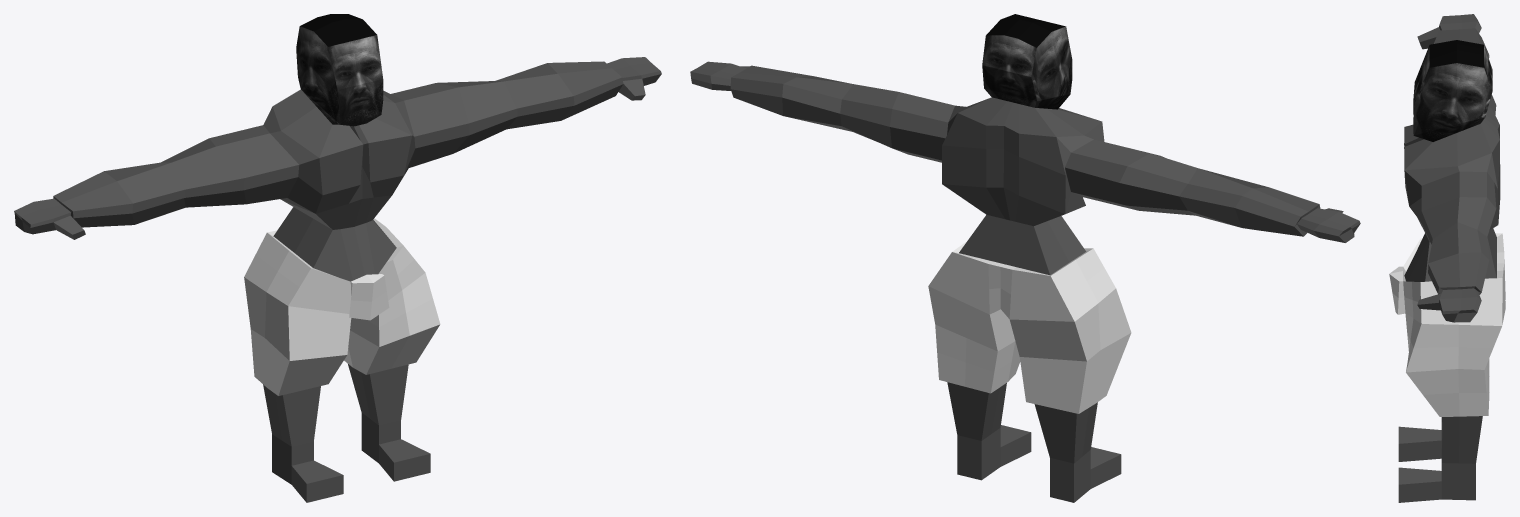
The model's file is Gigachad.fbx.
The picture shows the model from 3 angles, left to right: view 1: azimuth 30°, elevation 25°; view 2: azimuth 150°, elevation 25°; view 3: azimuth 270°, elevation 25°; orthographic projection. The views are drawn at different scales.
Visible parts, largest first — view 1: Cube; view 2: Cube; view 3: Cube.
Part boxes in pixels (left/top/right/bottom): Cube: left=14, top=14, right=661, bottom=502; Cube: left=690, top=14, right=1360, bottom=502; Cube: left=1389, top=14, right=1505, bottom=502.
Size of the model in its own units: 1897 by 1276 by 315.
